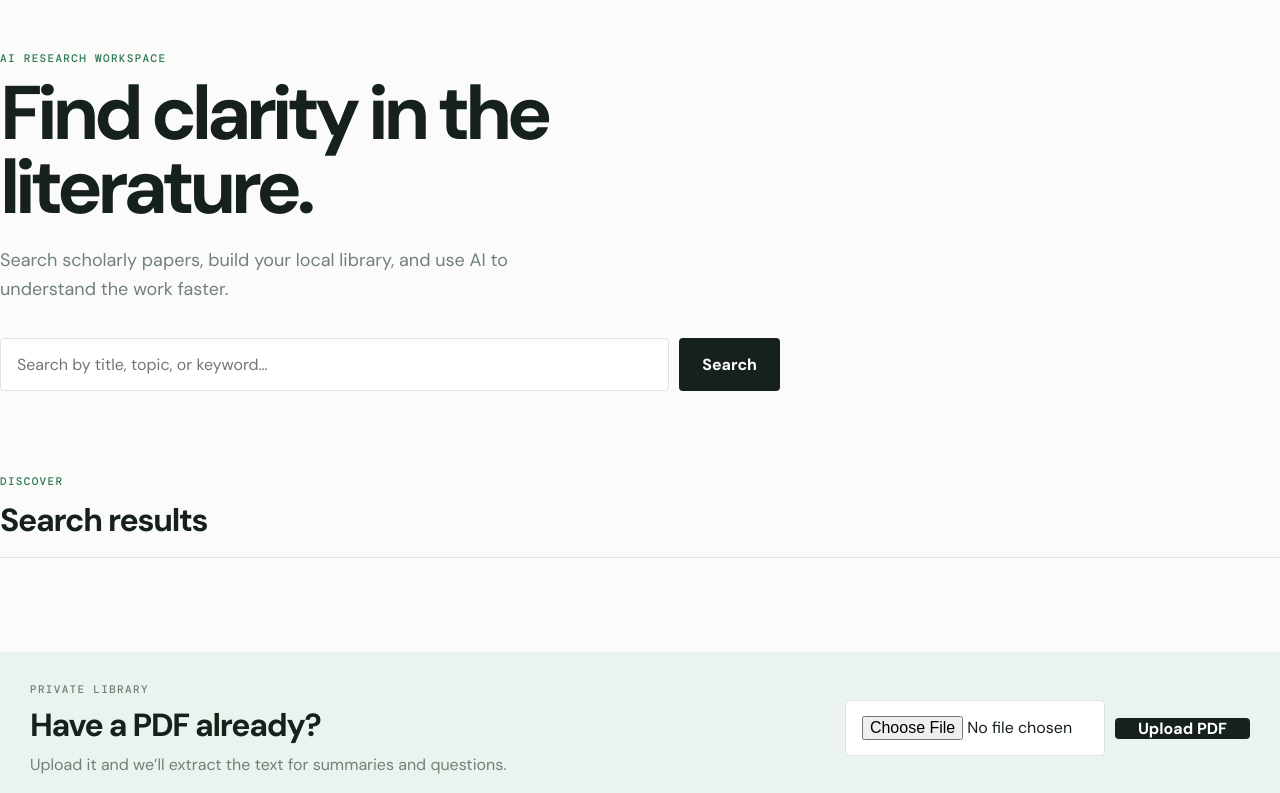
Test: search via Enter orders results newest first, with missing years last
In the field with placeholder "Search by title, topic, or keyword…": (335, 364) [0,338,669,390], type "AI"
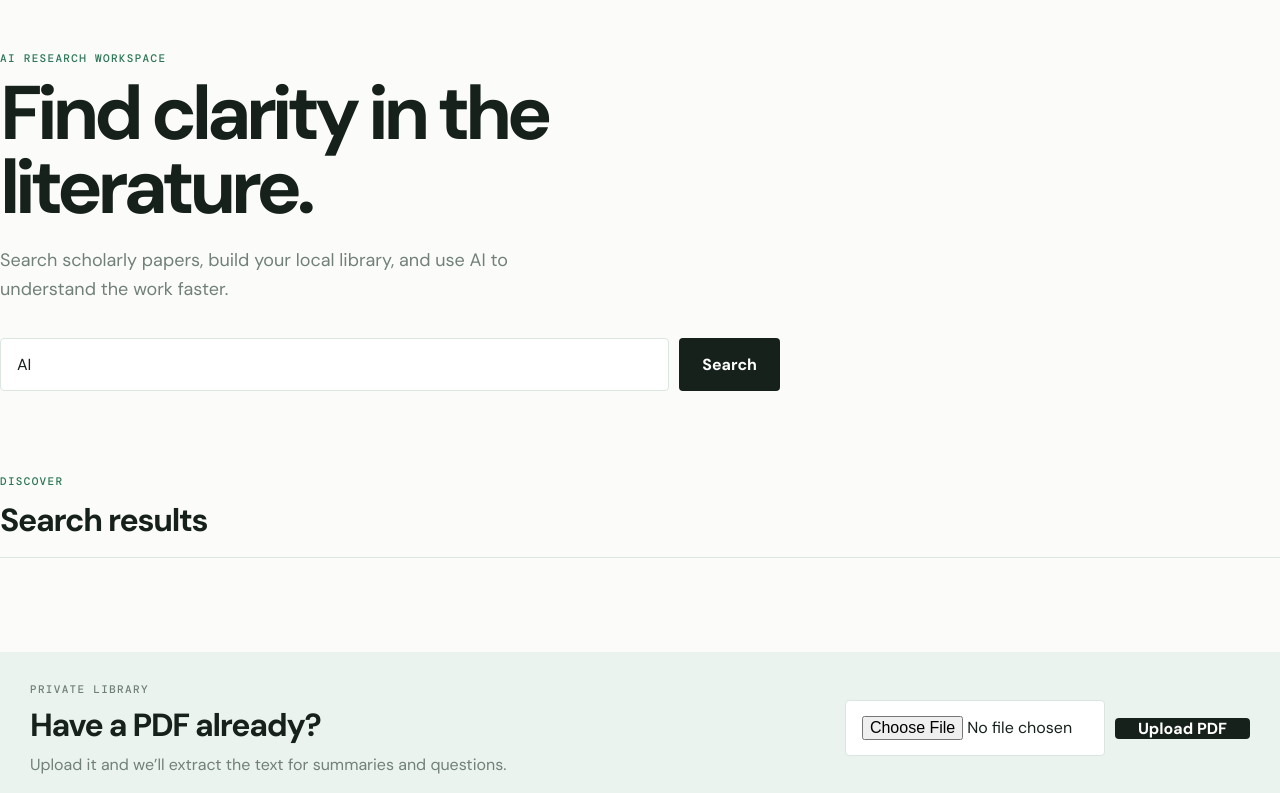
Press Enter in the field with placeholder "Search by title, topic, or keyword…", box [0,338,669,390]
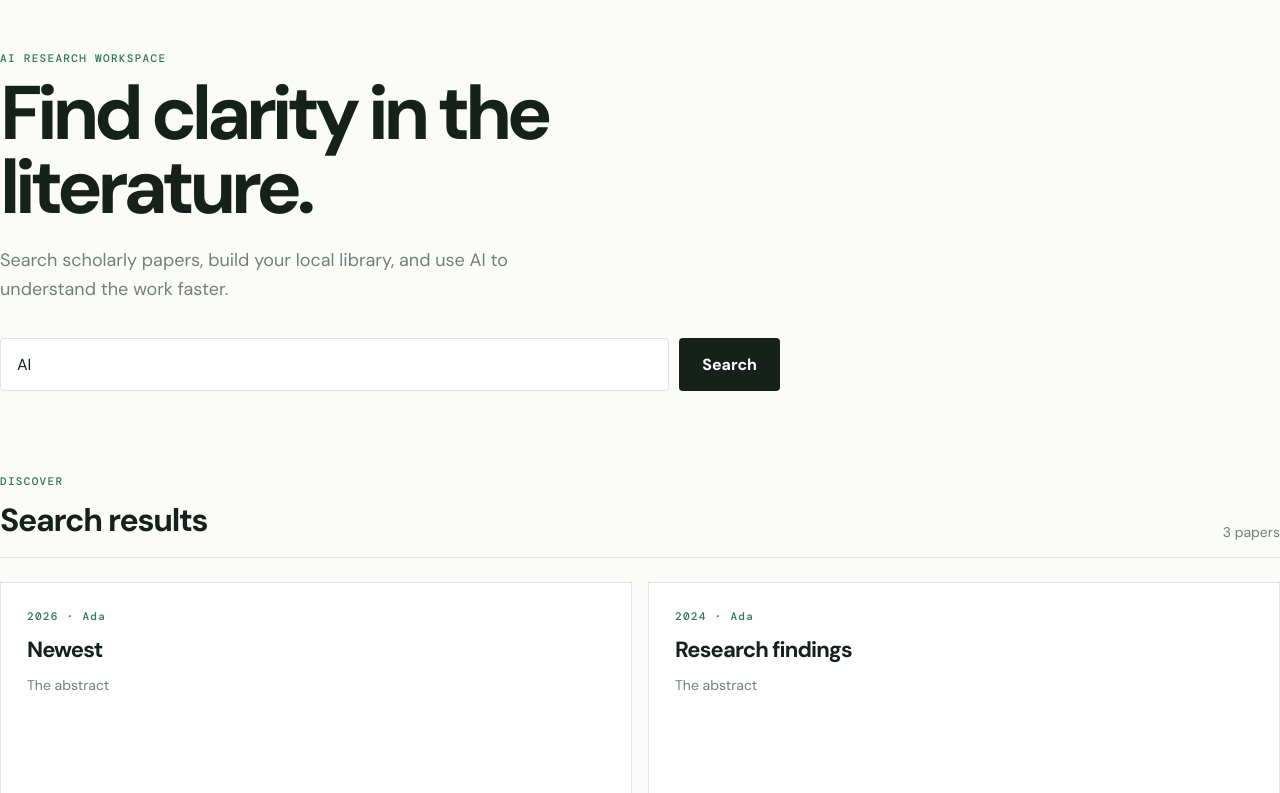
Result: the heading "Newest" is shown at [27,634,102,664]
